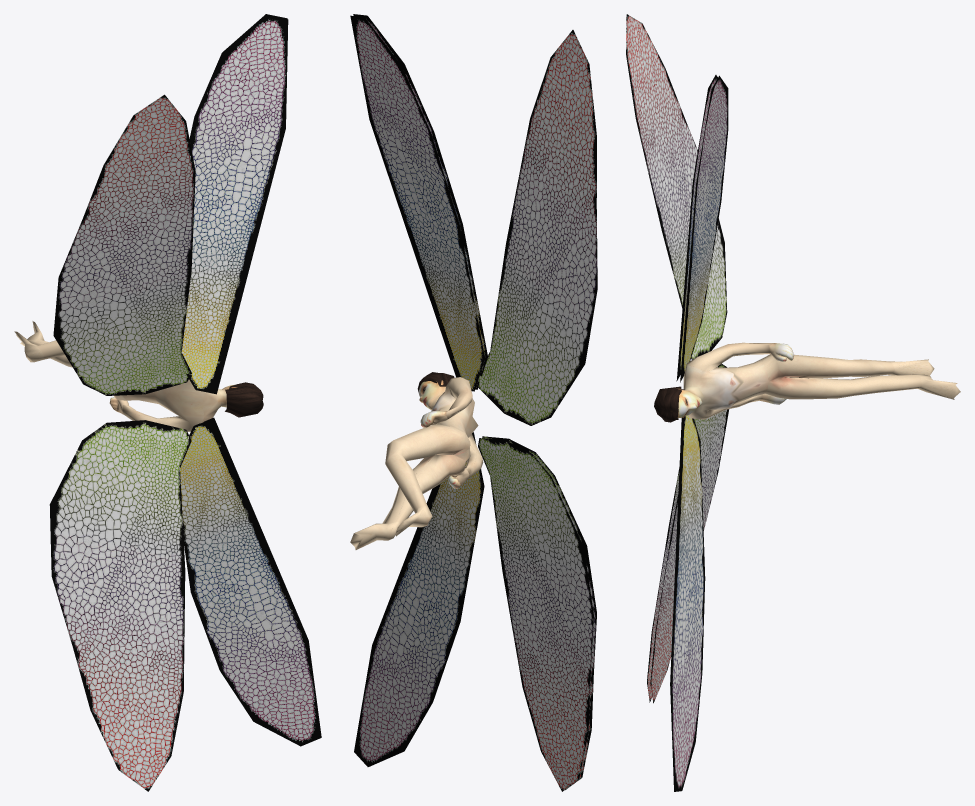
Rendered from angel_000014.obj.
The picture shows the model from 3 angles, left to right: view 1: azimuth 30°, elevation 25°; view 2: azimuth 150°, elevation 25°; view 3: azimuth 270°, elevation 25°; orthographic projection. The views are drawn at different scales.
Parts seen in each view (by area): view 1: Plane.001, Plane.002, Plane, Plane.003, body.001_omino.012, hair.003_omino.013; view 2: Plane.002, Plane.001, Plane, Plane.003, body.001_omino.012; view 3: Plane.002, body.001_omino.012, Plane, Plane.003, Plane.001, hair.003_omino.013.
Part boxes in pixels (box(x1,y1,x2,y2)): Plane.001: box(49, 420, 191, 791); Plane.002: box(53, 94, 195, 395); Plane: box(180, 417, 321, 746); Plane.003: box(181, 14, 288, 394); body.001_omino.012: box(14, 321, 237, 431); hair.003_omino.013: box(225, 382, 263, 417); Plane.002: box(477, 30, 597, 425); Plane.001: box(478, 436, 596, 791); Plane: box(354, 432, 484, 766); Plane.003: box(350, 14, 487, 391); body.001_omino.012: box(350, 377, 483, 549); Plane.002: box(626, 14, 727, 359); body.001_omino.012: box(670, 342, 960, 419); Plane: box(670, 415, 705, 791); Plane.003: box(676, 75, 728, 382); Plane.001: box(647, 363, 729, 703); hair.003_omino.013: box(654, 386, 684, 422).
Bounding box in the file's own units: 2.52 × 6.99 × 2.99.
